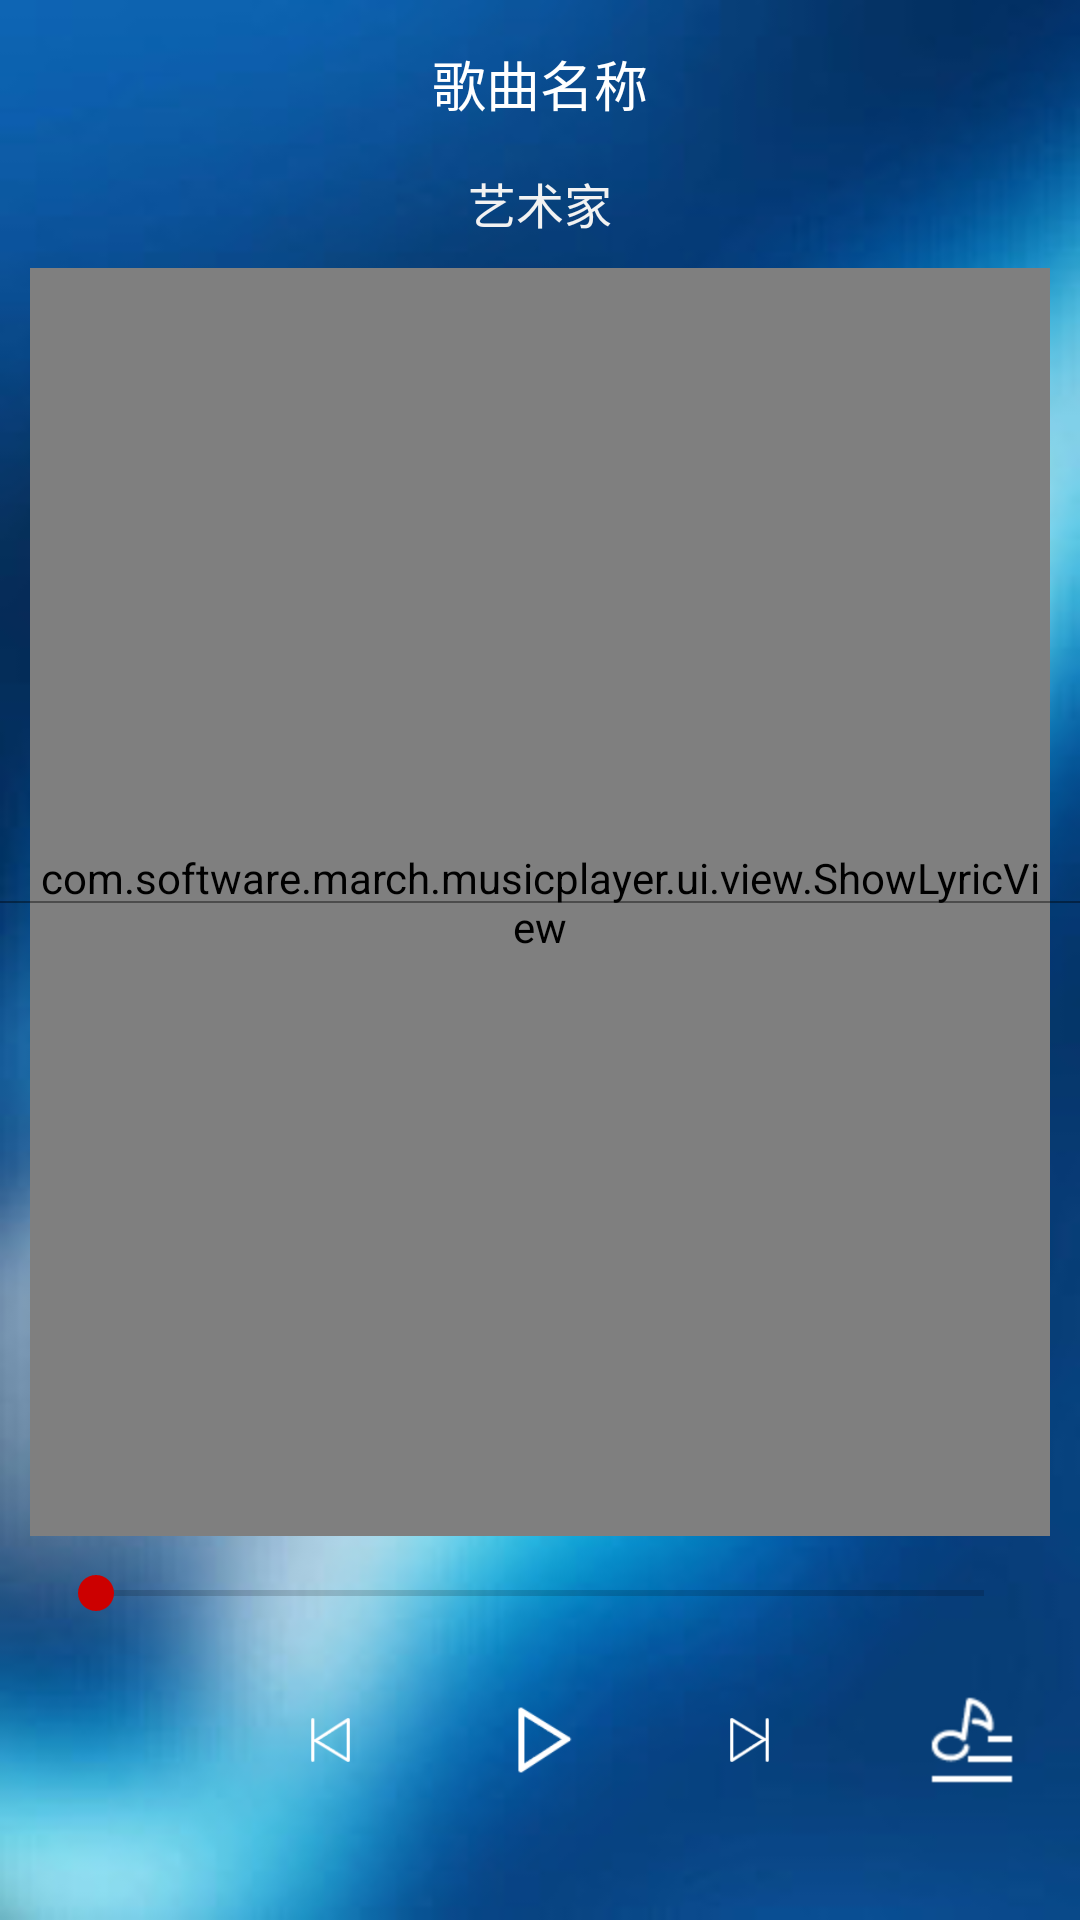

Locate icon controls on the screen. Image size 1080 x 1920, boxes as (x1, y1, x2, y2).
next: (730, 1718, 769, 1762)
play list: (931, 1697, 1013, 1783)
